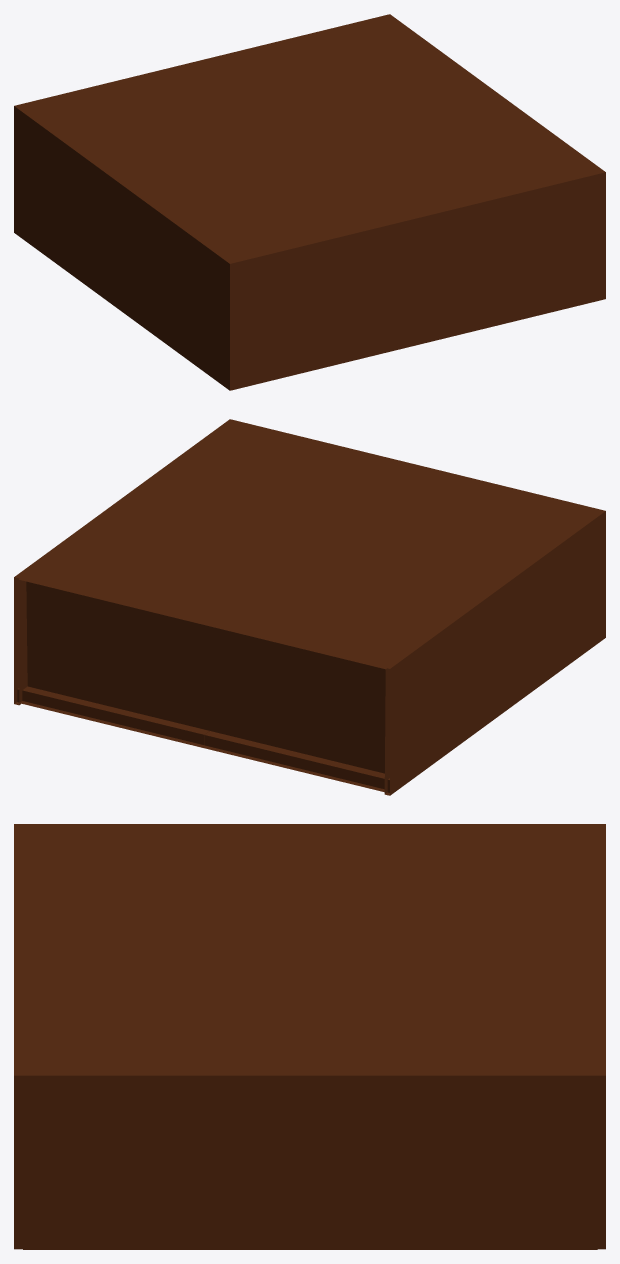
File: cupboard.glb
3 renders of one model, top to bottom at view 1: azimuth 30°, elevation 25°; view 2: azimuth 150°, elevation 25°; view 3: azimuth 270°, elevation 25°, orthographic. The views are drawn at different scales.
Parts seen in each view (by area): view 1: closet_body_0; view 2: closet_body_0, R_door_body_0, L_door_body_0; view 3: closet_body_0, R_door_body_0.
Boxes of the visible parts, box(x1,y1,x2,y2) form: closet_body_0: box(14, 14, 605, 390); closet_body_0: box(14, 419, 605, 795); R_door_body_0: box(17, 686, 209, 745); L_door_body_0: box(204, 731, 389, 792); closet_body_0: box(14, 824, 605, 1249); R_door_body_0: box(23, 1249, 597, 1249).
Size of the model in its own units: 2 by 0.7218 by 1.99.
